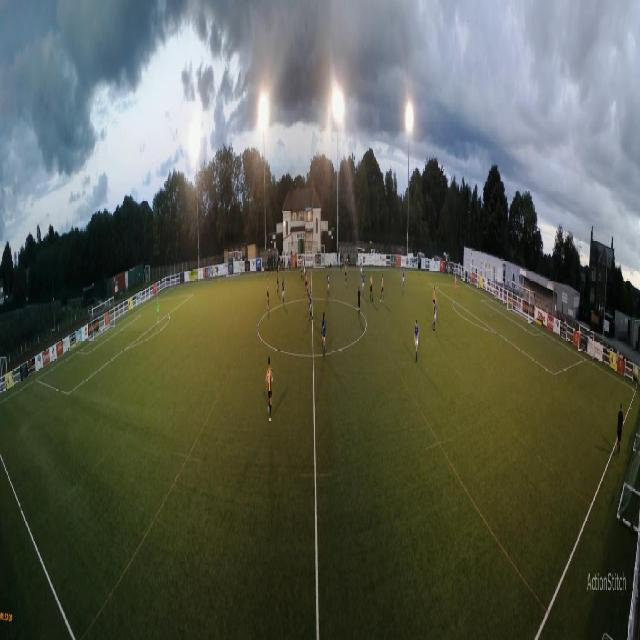ball: (436, 286, 438, 291)
player: (266, 357, 274, 423), (321, 311, 327, 357), (413, 319, 419, 364), (433, 297, 438, 332), (379, 273, 384, 305), (309, 285, 313, 323), (357, 286, 361, 321), (266, 278, 270, 310), (370, 273, 374, 304), (282, 277, 286, 306), (326, 271, 330, 300), (156, 297, 160, 325), (304, 269, 308, 297), (361, 271, 365, 298), (433, 285, 436, 314), (277, 267, 280, 295), (402, 266, 405, 293), (344, 261, 347, 286), (303, 258, 306, 282), (308, 279, 311, 303), (360, 259, 363, 281), (301, 260, 304, 281), (455, 274, 457, 295)
